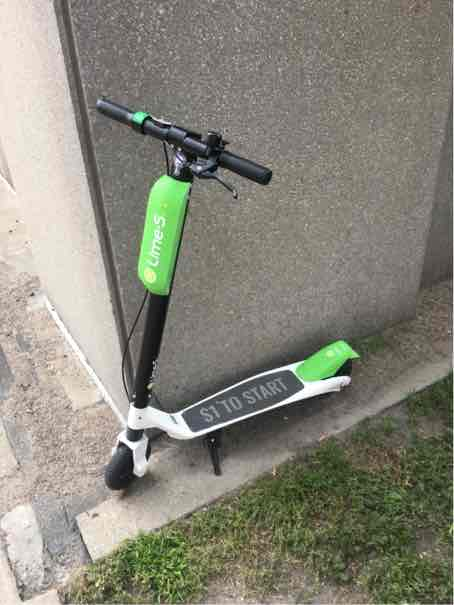scooter: (82, 84, 362, 501)
